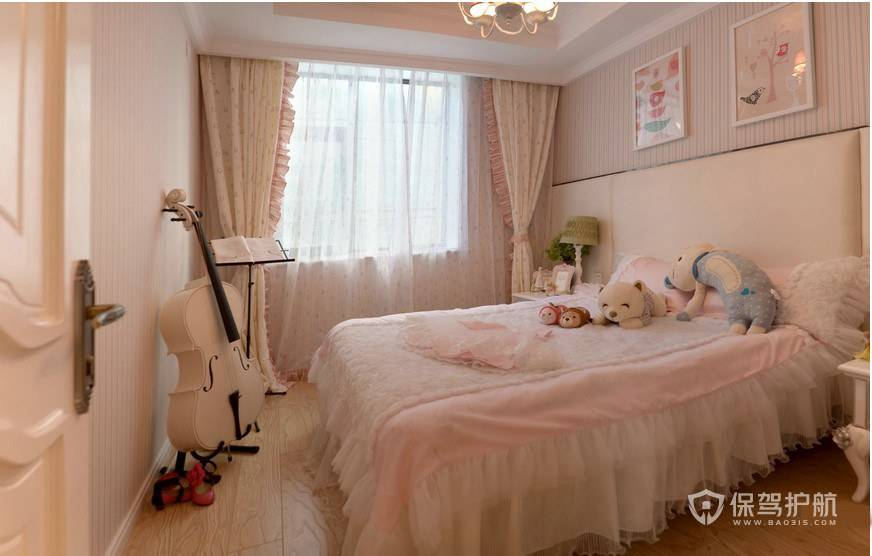床: (291, 290, 856, 538)
枕头: (605, 253, 854, 343)
灯: (458, 0, 564, 43)
